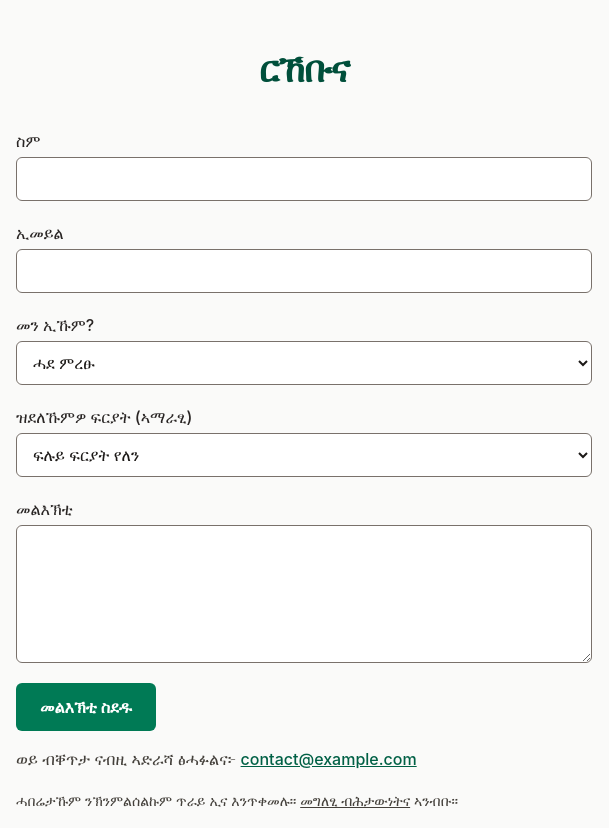
Test: ContactSection › in other languages › shows the success and failure messages in ti
Type "Test Visitor" into the field with id "contact-name" at (304,179), box [16,157,592,201]
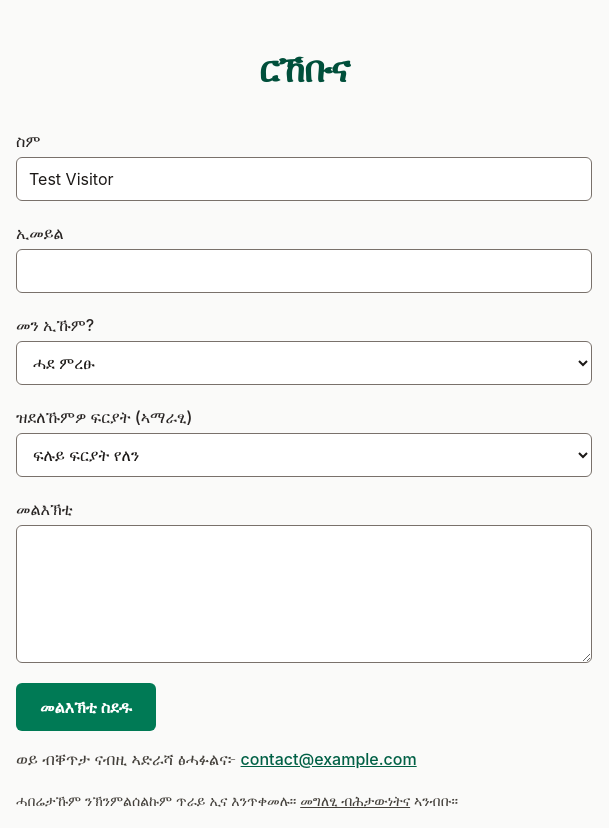
Type "visitor@example.com" into the field with id "contact-email" at (304,271), box [16,249,592,293]
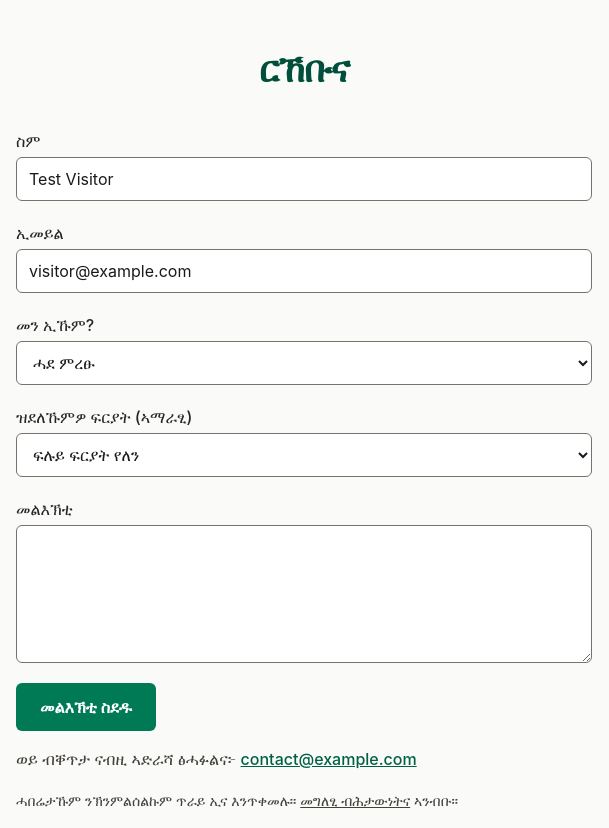
Select "ኣርክቴክት" in the dropdown with id "contact-visitor-type" at (304,363), box [16,341,592,385]
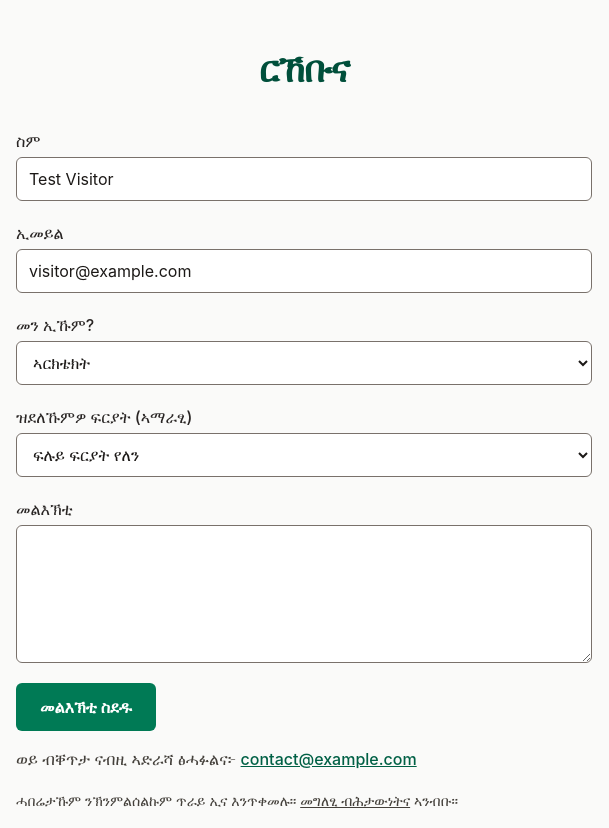
Type "Test message." into the text box with id "contact-message" at (304,594), box [16,525,592,663]
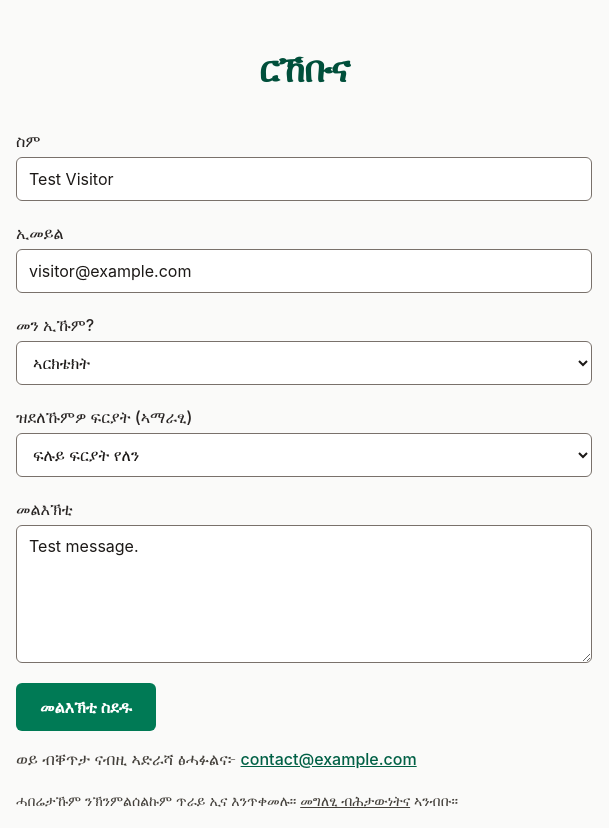
Submit the form
(page scrolled)
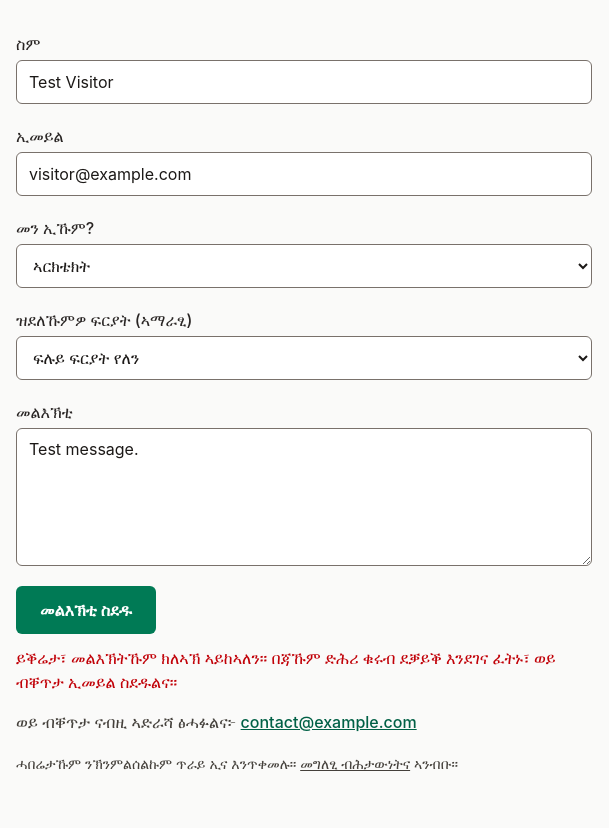
Submit the form
(page scrolled)
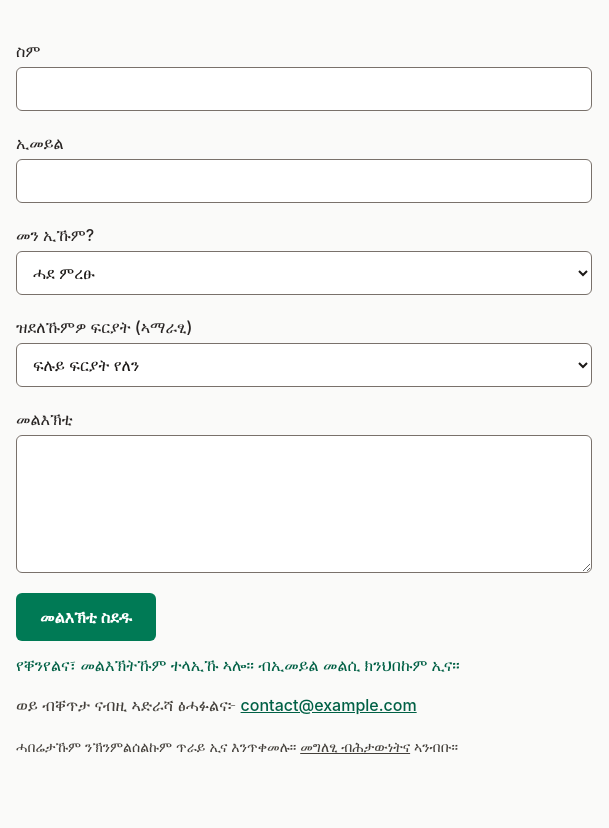
expect the text "የቐንየልና፣ መልእኽትኹም ተላኢኹ ኣሎ። ብኢመይል መልሲ ክንህበኩም ኢና።" is shown: met, box [16,655,460,675]
